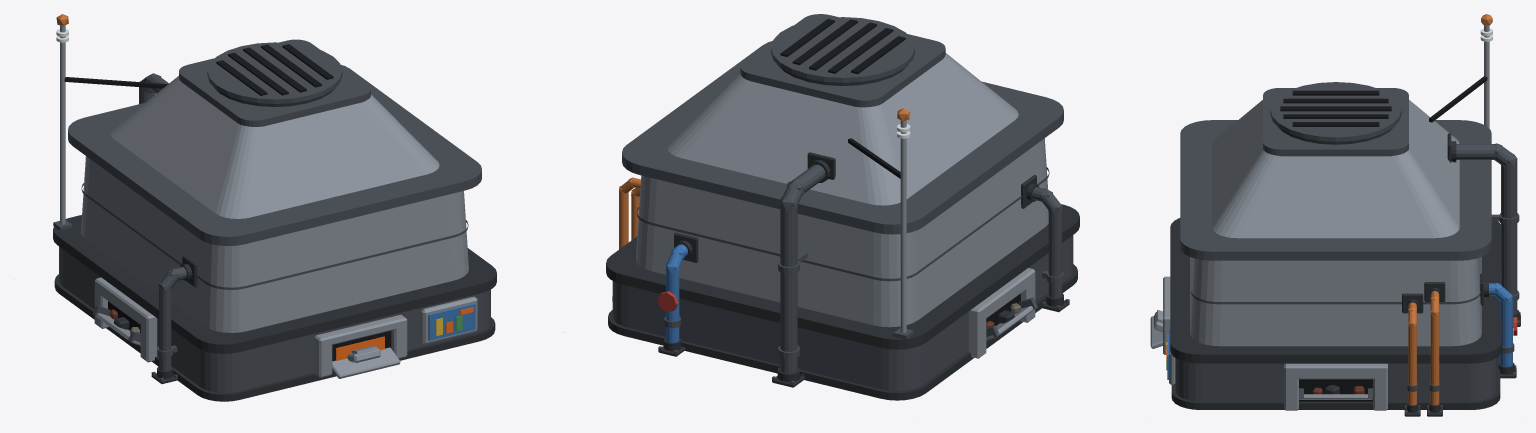
Rendered from fourneau_electrique_t2.glb.
The picture shows the model from 3 angles, left to right: view 1: azimuth 30°, elevation 25°; view 2: azimuth 150°, elevation 25°; view 3: azimuth 270°, elevation 25°; orthographic projection. The views are drawn at different scales.
Parts seen in each view (by area): view 1: corps.005, pyramide.002, palier.002, socle_bandeau.002, socle.004, pieces_acier.004, grille_bord.002, pyramide_rebord.002, pieces_noir.007, socle_plinthe.002, pieces_acier_sombre.007, corps_joint.002 (+5 smaller); view 2: corps.005, pyramide.002, palier.002, socle.004, socle_bandeau.002, pieces_acier_sombre.007, grille_bord.002, pyramide_rebord.002, pieces_acier.004, socle_plinthe.002, pieces_noir.007, pieces_fonte.007 (+3 smaller); view 3: pyramide.002, corps.005, palier.002, socle_bandeau.002, socle.004, grille_bord.002, pieces_noir.007, pieces_acier.004, pieces_acier_sombre.007, pyramide_rebord.002, socle_plinthe.002, pieces_cuivre.004 (+4 smaller).
Part boxes in pixels (x1,y1,x2,y2): corps.005: [81, 156, 468, 332]; pyramide.002: [110, 76, 439, 218]; palier.002: [68, 65, 481, 245]; socle_bandeau.002: [53, 215, 496, 353]; socle.004: [59, 246, 490, 392]; pieces_acier.004: [60, 25, 407, 377]; grille_bord.002: [207, 42, 342, 103]; pyramide_rebord.002: [179, 39, 370, 126]; pieces_noir.007: [64, 44, 333, 333]; socle_plinthe.002: [54, 274, 495, 401]; pieces_acier_sombre.007: [53, 73, 186, 381]; corps_joint.002: [81, 183, 468, 289]; corps.005: [636, 138, 1048, 327]; pyramide.002: [667, 53, 1018, 205]; palier.002: [622, 41, 1063, 234]; socle.004: [612, 235, 1073, 391]; socle_bandeau.002: [606, 204, 1079, 349]; pieces_acier_sombre.007: [612, 164, 1069, 384]; grille_bord.002: [771, 17, 914, 82]; pyramide_rebord.002: [740, 14, 945, 107]; pieces_acier.004: [900, 120, 1035, 358]; socle_plinthe.002: [608, 264, 1077, 400]; pieces_noir.007: [780, 19, 1020, 325]; pieces_fonte.007: [612, 152, 1069, 387]; pyramide.002: [1212, 100, 1459, 238]; corps.005: [1190, 257, 1481, 346]; palier.002: [1180, 120, 1491, 260]; socle_bandeau.002: [1170, 218, 1501, 363]; socle.004: [1175, 358, 1496, 401]; grille_bord.002: [1270, 82, 1401, 141]; pieces_noir.007: [1280, 76, 1487, 401]; pieces_acier.004: [1163, 25, 1489, 410]; pieces_acier_sombre.007: [1299, 143, 1520, 414]; pyramide_rebord.002: [1263, 88, 1408, 156]; socle_plinthe.002: [1171, 355, 1500, 409]; pieces_cuivre.004: [1408, 14, 1492, 405].
Size of the model in its own units: 1.5 by 1.17 by 1.5.
